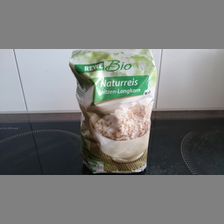rice: (69, 49, 159, 173)
